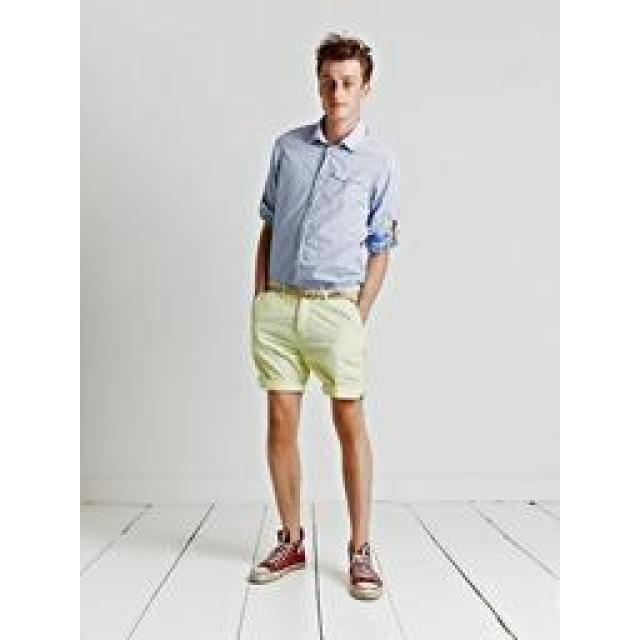shirt: (258, 118, 400, 290)
short: (249, 279, 369, 399)
